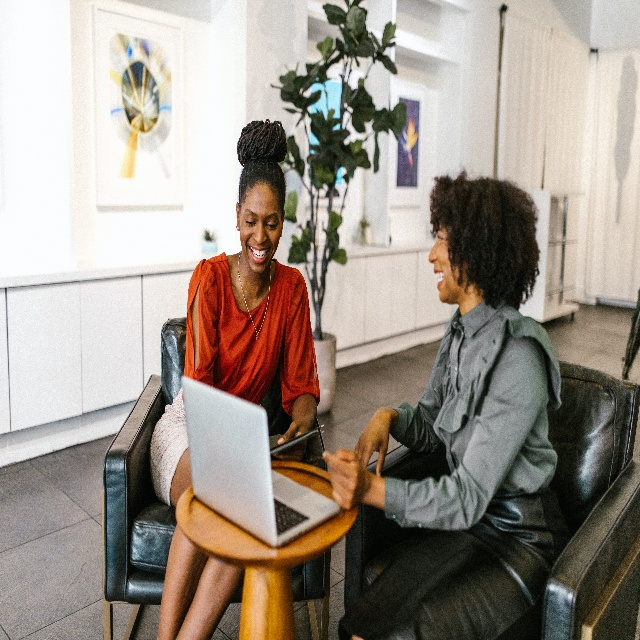Sin_guantes: (351, 408, 398, 477), (322, 446, 369, 513), (277, 422, 315, 458)
